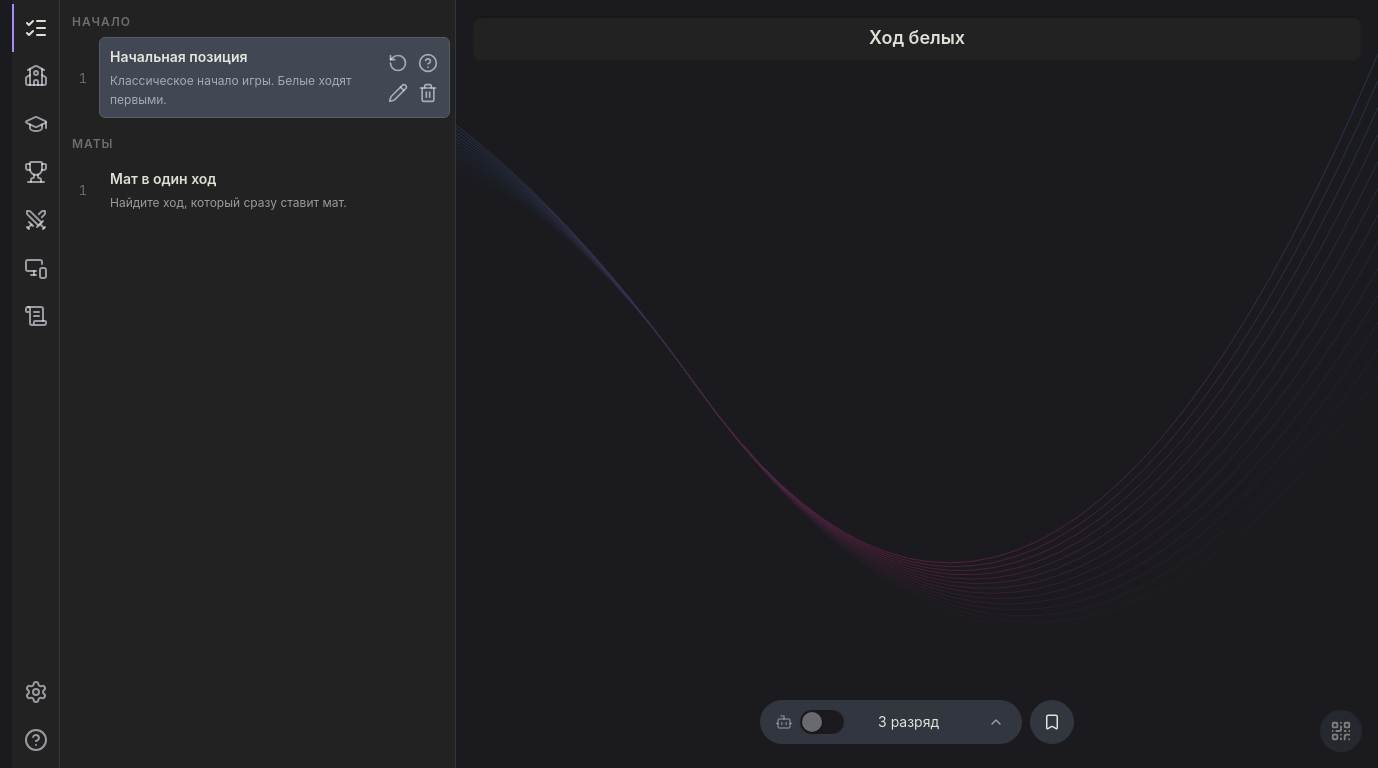
Test: App › switches the left panel to the devices tab
Expected: the button "Мат в один ход Найдите ход, который сразу ставит мат." is shown, [99, 159, 450, 221]
Click the button named "Устройства": click(36, 268) [12, 244, 60, 292]
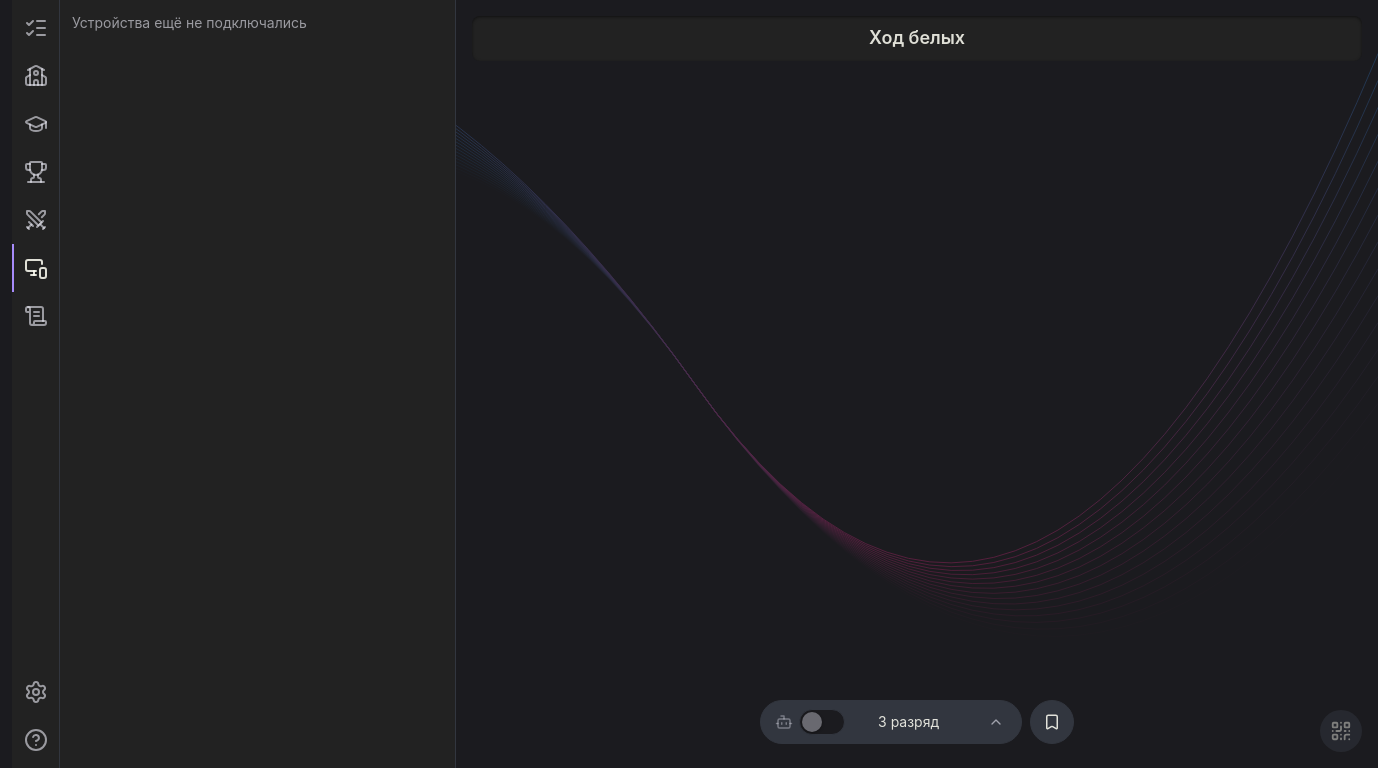
Expected: the button "Мат в один ход" is gone
Expected: the element with class "devices-panel" is shown, [72, 14, 307, 31]
